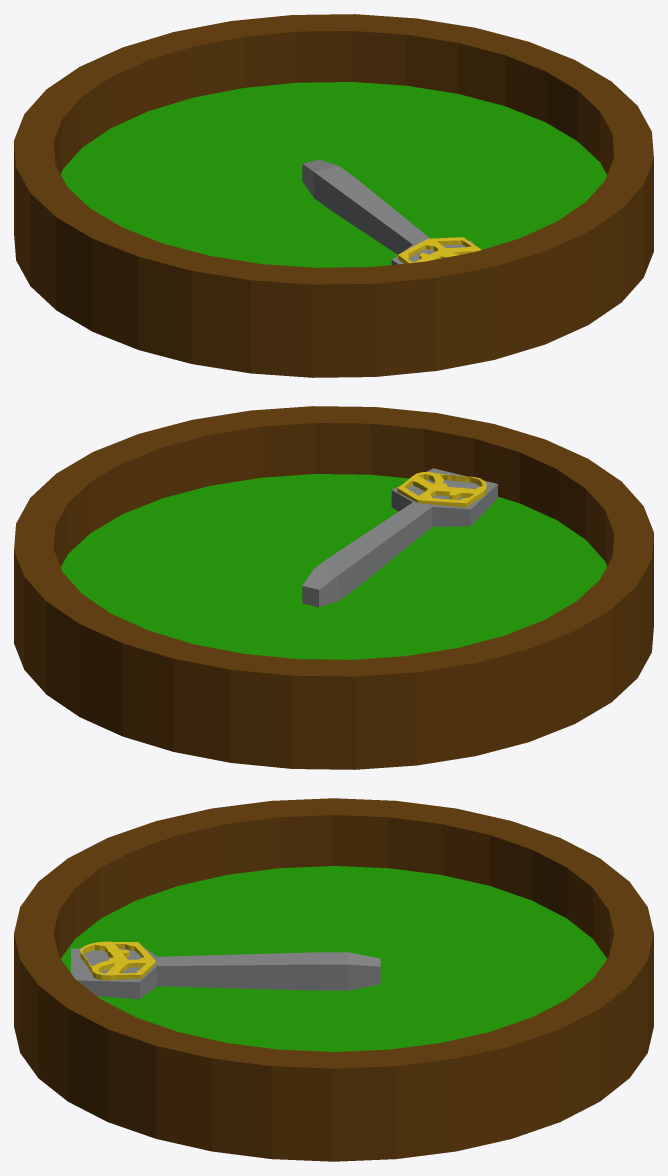
File: Compass.fbx
3 renders of one model, top to bottom at view 1: azimuth 30°, elevation 25°; view 2: azimuth 150°, elevation 25°; view 3: azimuth 270°, elevation 25°, orthographic.
Parts seen in each view (by area): view 1: Cylinder, Cube, model_45453e; view 2: Cylinder, Cube, model_45453e; view 3: Cylinder, Cube, model_45453e.
Boxes of the visible parts, <box> form: Cylinder: <box>14,14,653,377</box>; Cube: <box>302,159,475,264</box>; model_45453e: <box>398,237,481,263</box>; Cylinder: <box>14,406,653,769</box>; Cube: <box>302,468,497,607</box>; model_45453e: <box>397,472,486,507</box>; Cylinder: <box>14,798,653,1161</box>; Cube: <box>71,946,380,999</box>; model_45453e: <box>80,941,155,980</box>.
Bounding box in the file's own units: 200 × 32.08 × 200.
